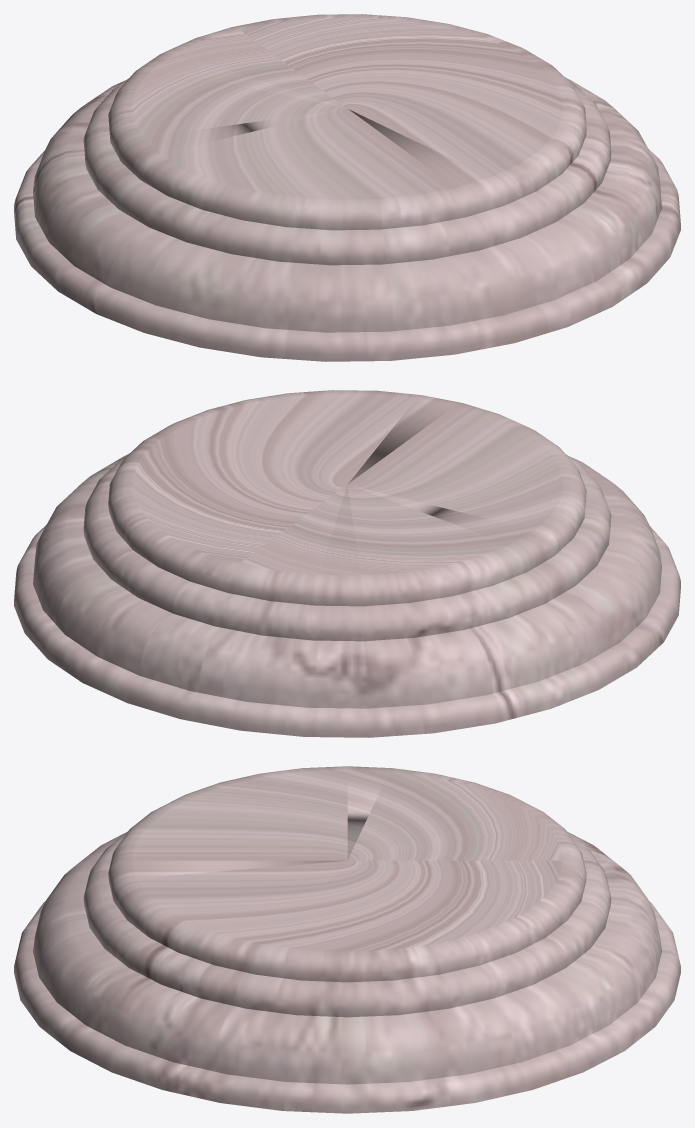
The model's file is pasted__marble_tiles_pink_152.fbx.
The picture shows the model from 3 angles, top to bottom: view 1: azimuth 30°, elevation 25°; view 2: azimuth 150°, elevation 25°; view 3: azimuth 270°, elevation 25°; orthographic projection.
Parts seen in each view (by area): view 1: pasted__marble_tiles_pink_152; view 2: pasted__marble_tiles_pink_152; view 3: pasted__marble_tiles_pink_152.
Part boxes in pixels (x1,y1,x2,y2): pasted__marble_tiles_pink_152: (14, 14, 680, 361); pasted__marble_tiles_pink_152: (14, 390, 680, 737); pasted__marble_tiles_pink_152: (14, 766, 680, 1113).
Size of the model in its own units: 24.11 by 24.11 by 4.47.
